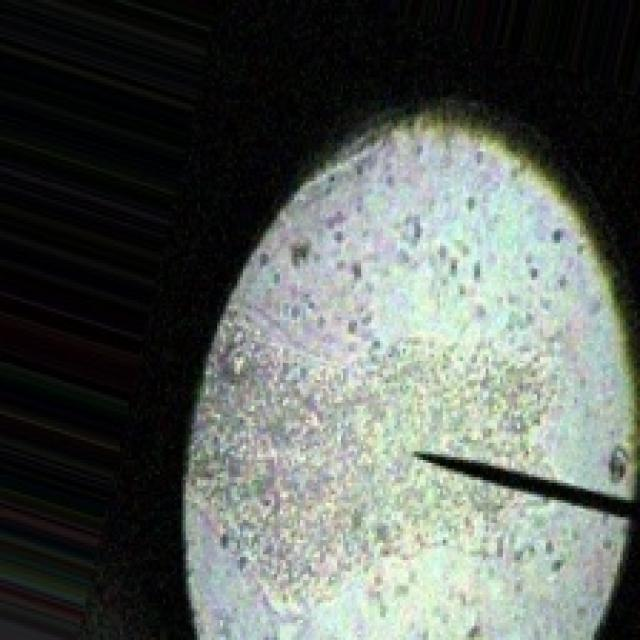Amoeba: (180, 97, 637, 637)
